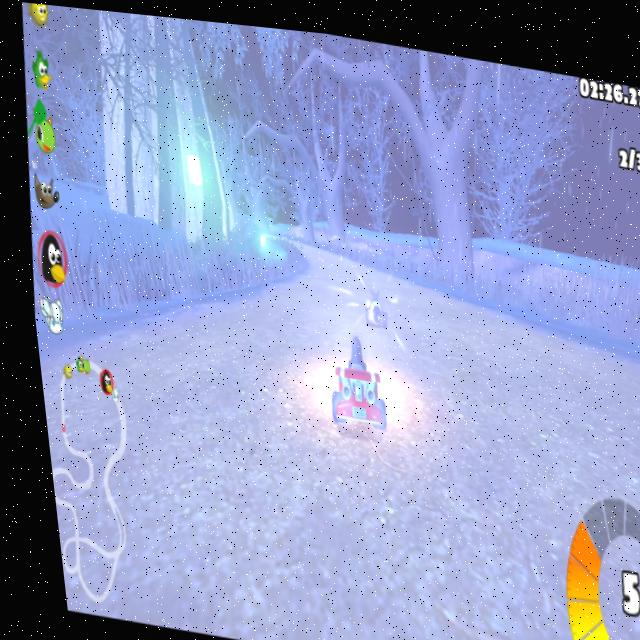enemy_kart: (346, 275, 394, 328)
player_kart: (297, 320, 392, 440)
